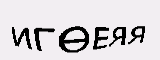Г: (33, 26, 55, 53)
Е: (91, 24, 109, 52)
И: (9, 25, 32, 50)
Я: (126, 24, 147, 46), (107, 26, 127, 48)
Ө: (58, 25, 90, 54)
